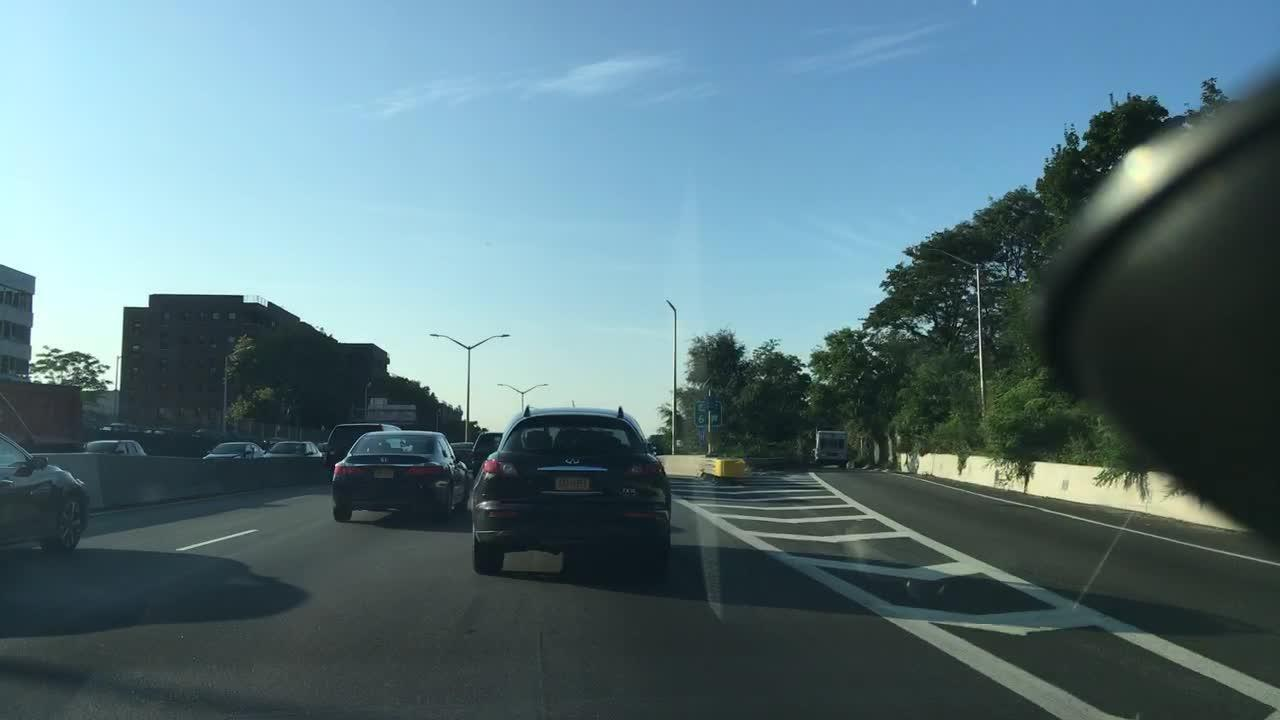Infiniti: (563, 455, 582, 466)
